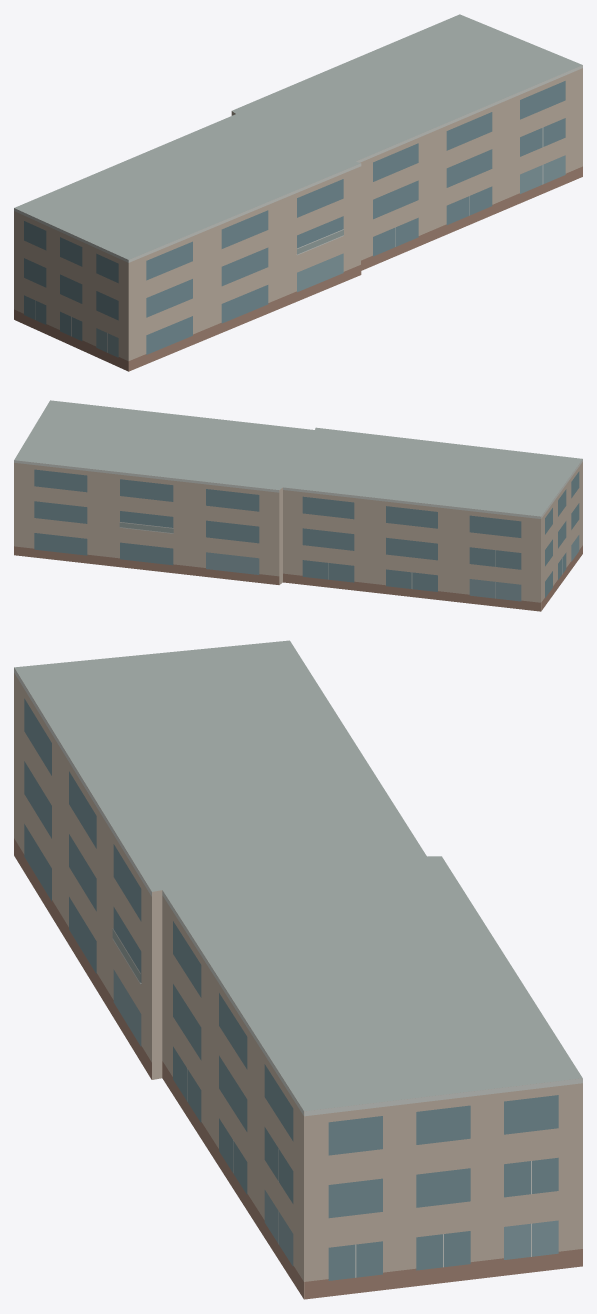
The model's file is survey-upis-32617178.glb.
3 views of the same model, one above another, from view 1: azimuth 30°, elevation 25°; view 2: azimuth 150°, elevation 25°; view 3: azimuth 270°, elevation 25° (orthographic). The views are drawn at different scales.
Visible parts, largest first — view 1: survey-upis-32617178.tmp; view 2: survey-upis-32617178.tmp; view 3: survey-upis-32617178.tmp.
Part boxes in pixels (x1,y1,x2,y2): survey-upis-32617178.tmp: (14, 14, 582, 371); survey-upis-32617178.tmp: (14, 400, 582, 611); survey-upis-32617178.tmp: (14, 640, 582, 1299).
Bounding box in the file's own units: 49.13 × 9.15 × 25.08.
